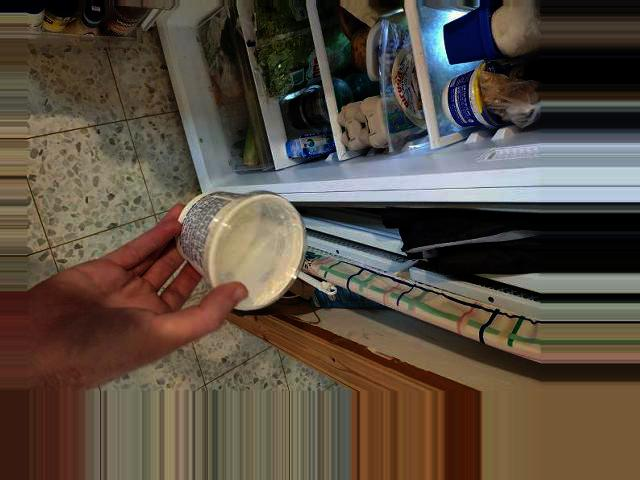cotage: (185, 197, 304, 298)
